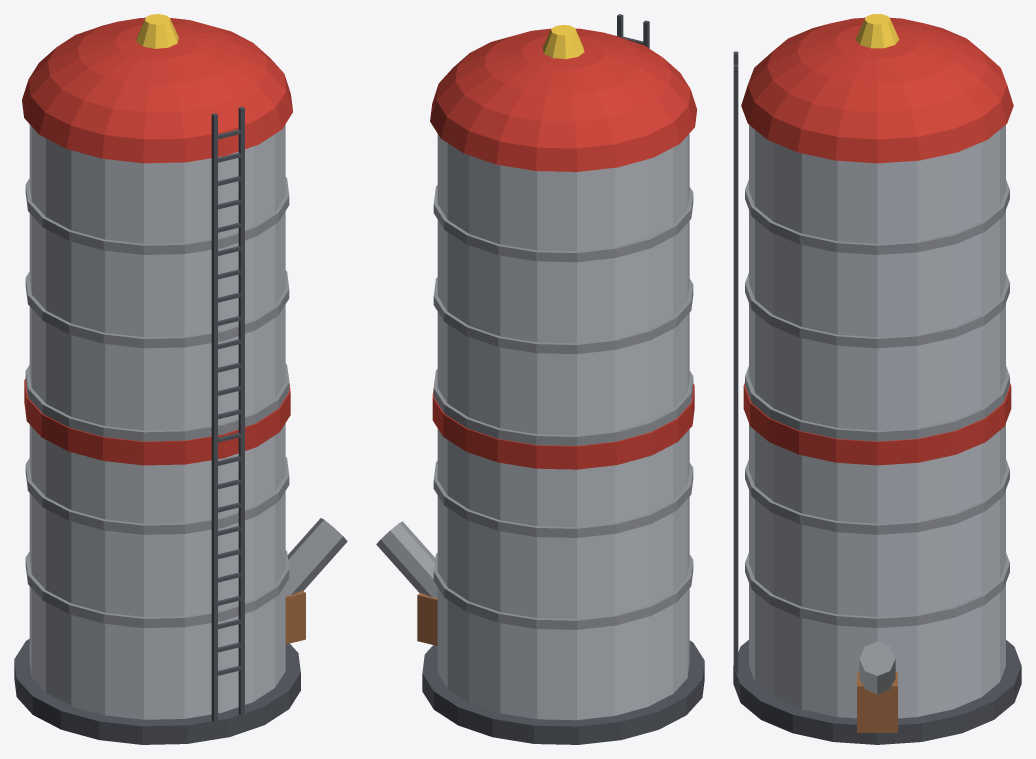
Rendered from Silo.fbx.
3 renders of one model, left to right at view 1: azimuth 30°, elevation 25°; view 2: azimuth 150°, elevation 25°; view 3: azimuth 270°, elevation 25°, orthographic.
Visible parts, largest first — view 1: Silo; view 2: Silo; view 3: Silo.
Part boxes in pixels (x1,y1,x2,y2): Silo: [14, 14, 347, 744]; Silo: [376, 14, 704, 744]; Silo: [733, 14, 1021, 744].
Size of the model in its own units: 391 by 798 by 314.
